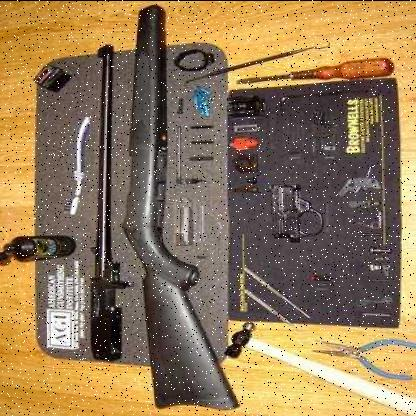rifle: (92, 1, 247, 416)
